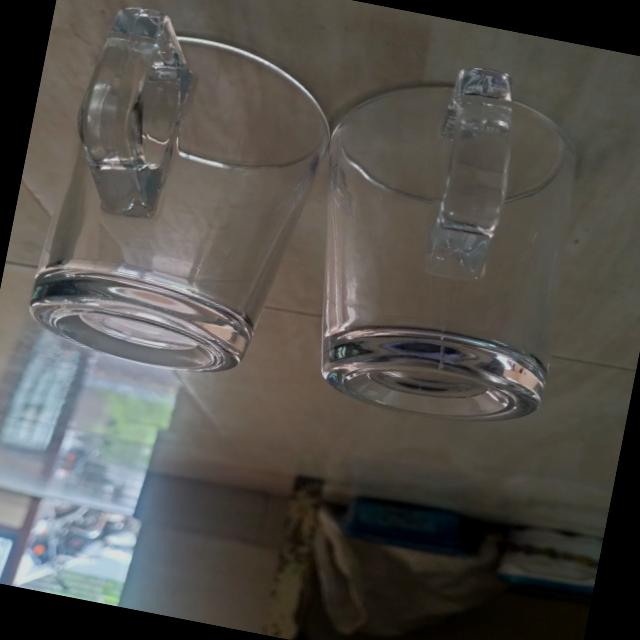glass-VX4N: (283, 39, 604, 438), (21, 0, 336, 391)
